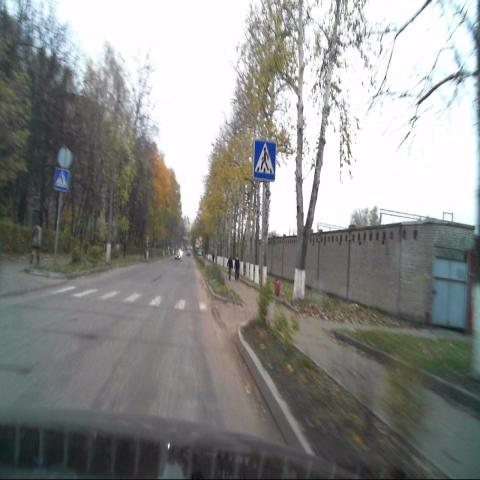5_19_1: (253, 140, 276, 180), (54, 169, 69, 192)
